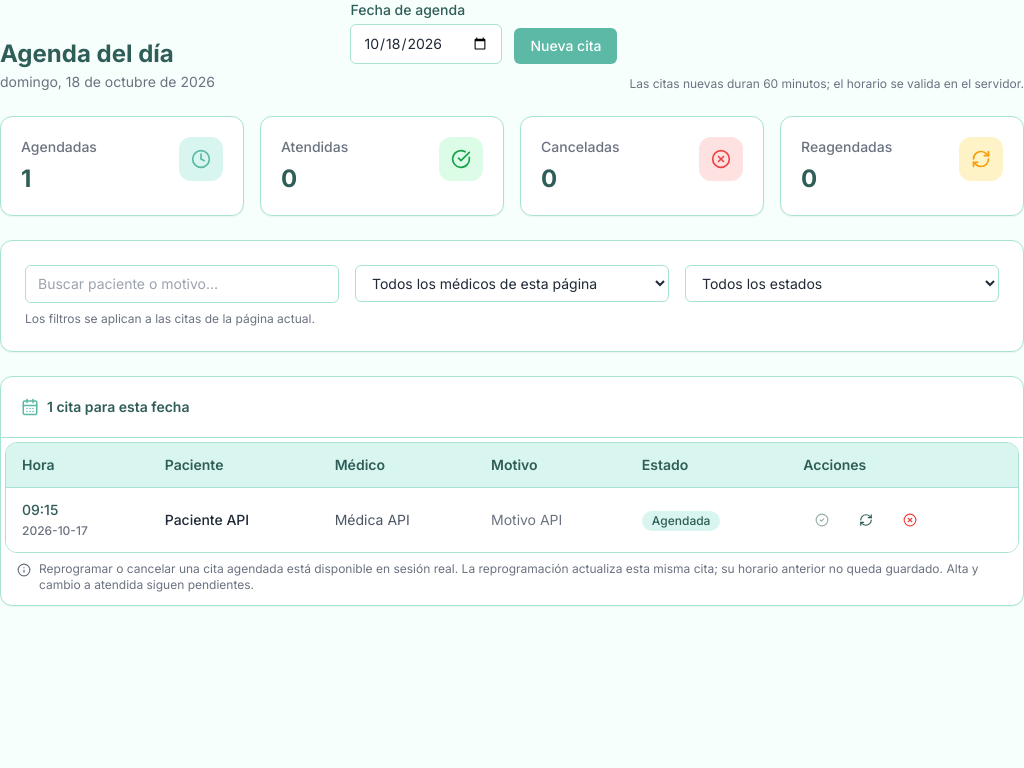
Test: AgendaPage de recepción › reprograma una cita Agendada por API y recarga la agenda
Click the button named "Reagendar cita: Paciente API".
click(866, 520)  # box [847,507,885,533]
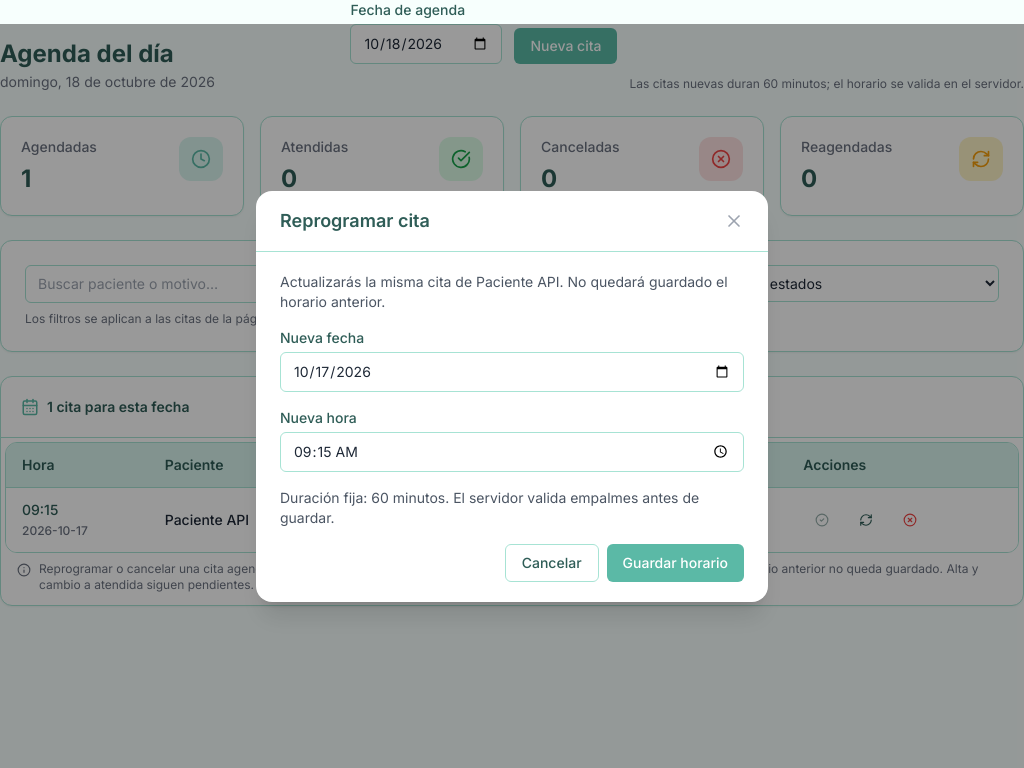
Check: the text "No quedará guardado el horario anterior" is shown, box [280,272,728,310]
Type "2026-10-20" into the date field labelled "Nueva fecha".
click(512, 372); type("2026-10-20")  # box [280,352,744,392]
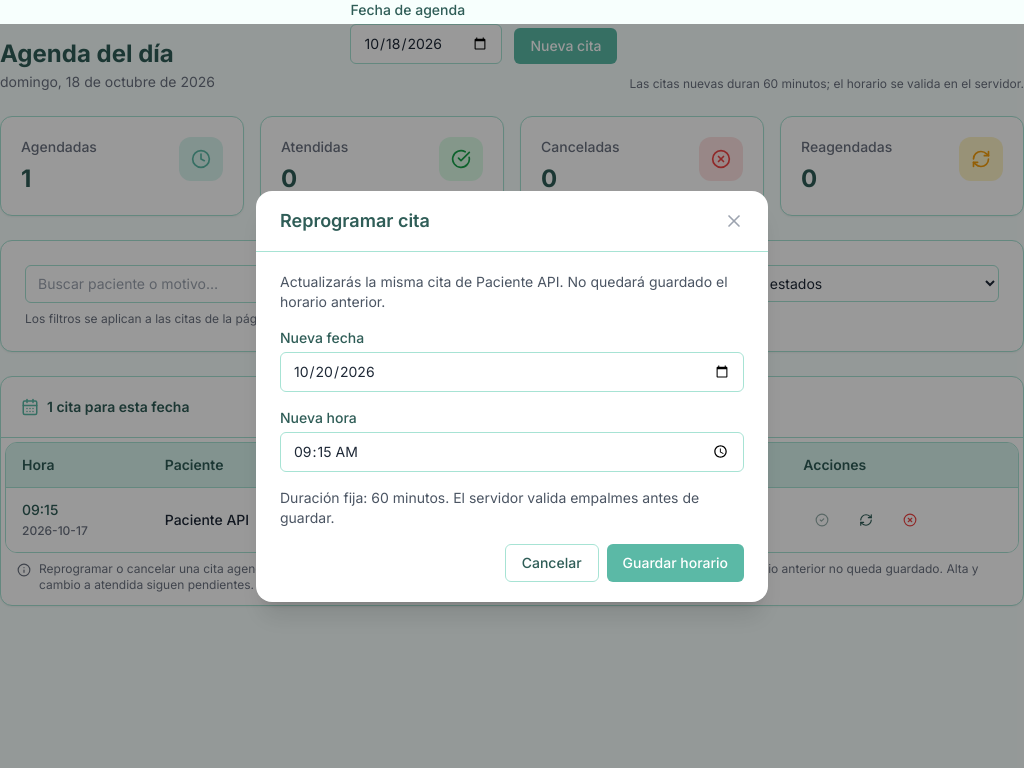
Replace the text in the time field labelled "Nueva hora" with "11:45" at point(512, 452), box [280,432,744,472]
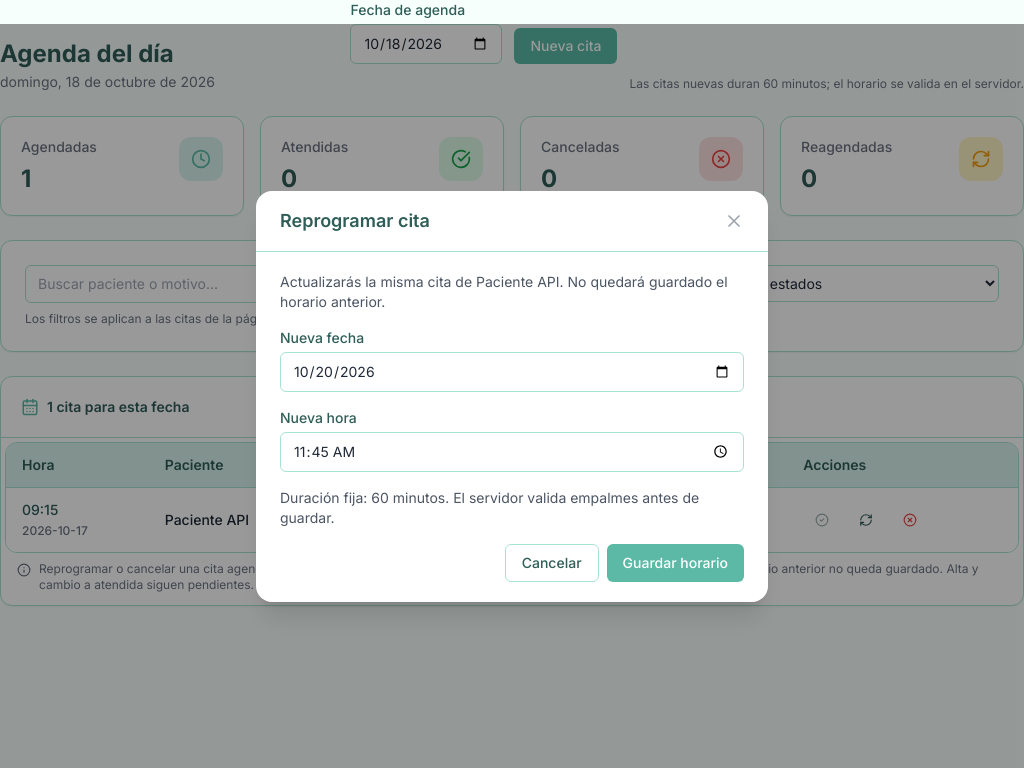
Click the button "Guardar horario".
click(675, 562)  # box [607,544,744,582]
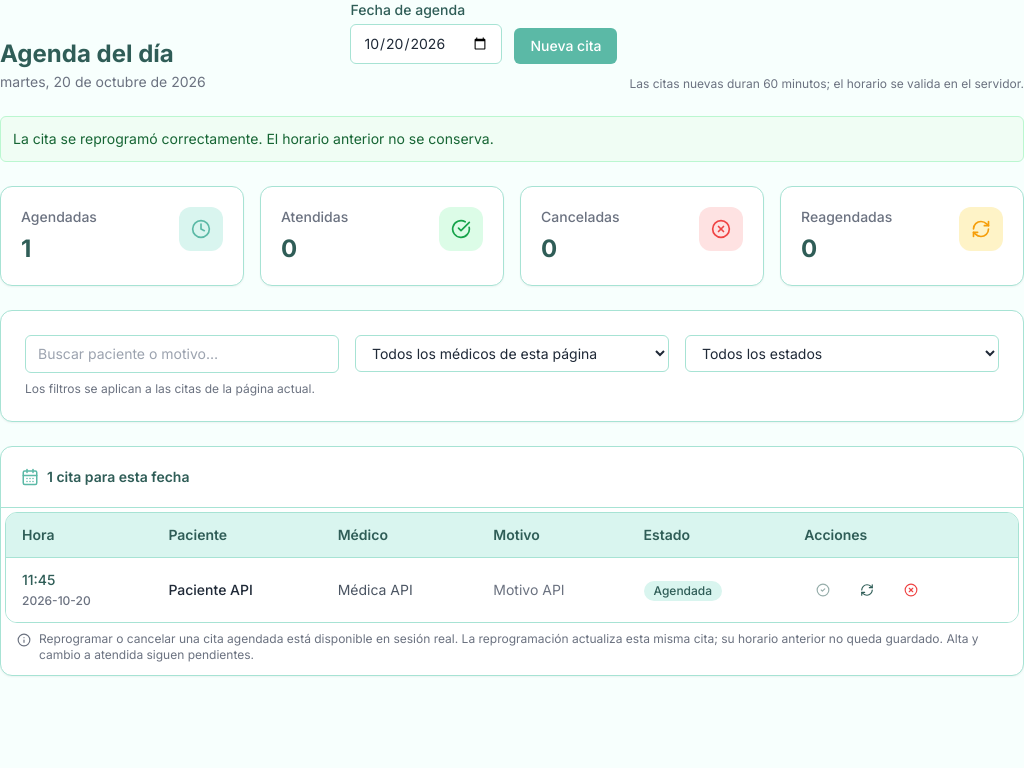
Check: the text "La cita se reprogramó correctamente. El horario anterior no se conserva." is shown, box [0,116,1023,162]
Check: the row "11:45 2026-10-20 Paciente API Médica API Motivo API Agendada" is shown, box [6,558,1018,622]
